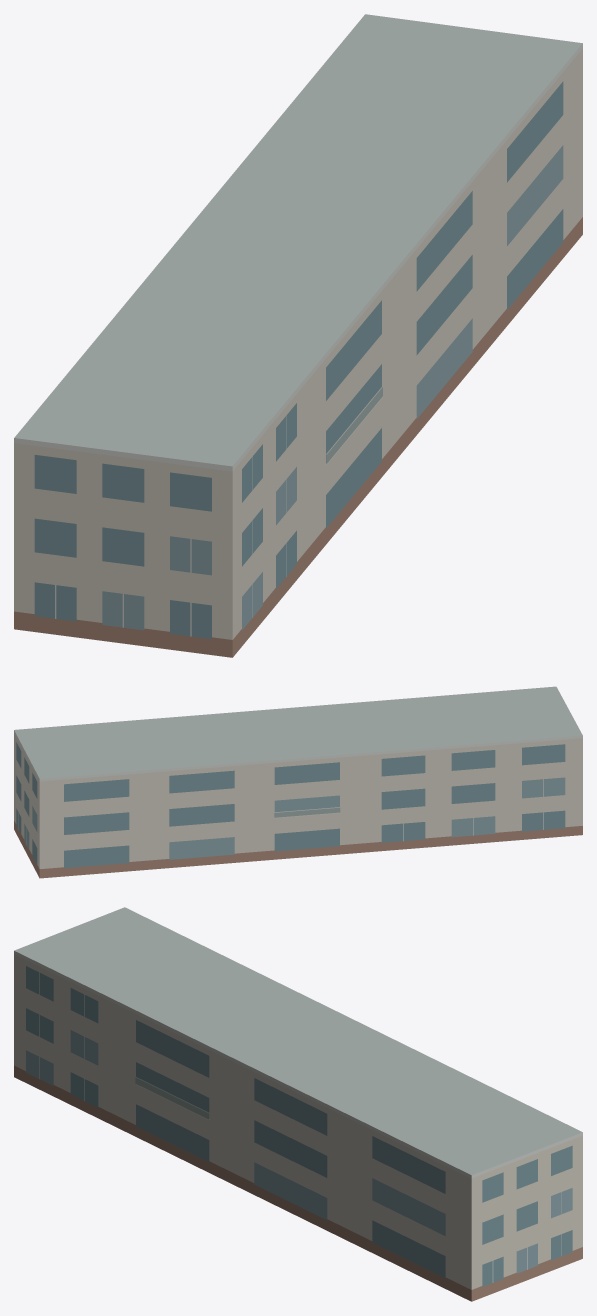
File: survey-upis-32627321.glb
The picture shows the model from 3 angles, top to bottom: view 1: azimuth 30°, elevation 25°; view 2: azimuth 150°, elevation 25°; view 3: azimuth 270°, elevation 25°; orthographic projection. The views are drawn at different scales.
Visible parts, largest first — view 1: survey-upis-32627321.tmp; view 2: survey-upis-32627321.tmp; view 3: survey-upis-32627321.tmp.
Part boxes in pixels (x1,y1,x2,y2): survey-upis-32627321.tmp: (14, 14, 582, 657); survey-upis-32627321.tmp: (14, 686, 582, 878); survey-upis-32627321.tmp: (14, 907, 582, 1301).
Size of the model in its own units: 41.59 by 9.15 by 37.3.
